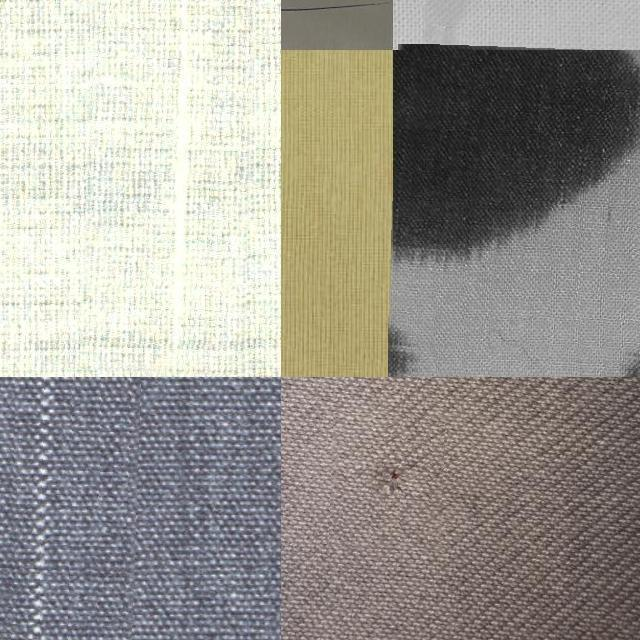Thread_other: (390, 47, 640, 377)
other: (328, 413, 442, 550)
stains: (82, 0, 254, 374), (0, 377, 138, 640)
